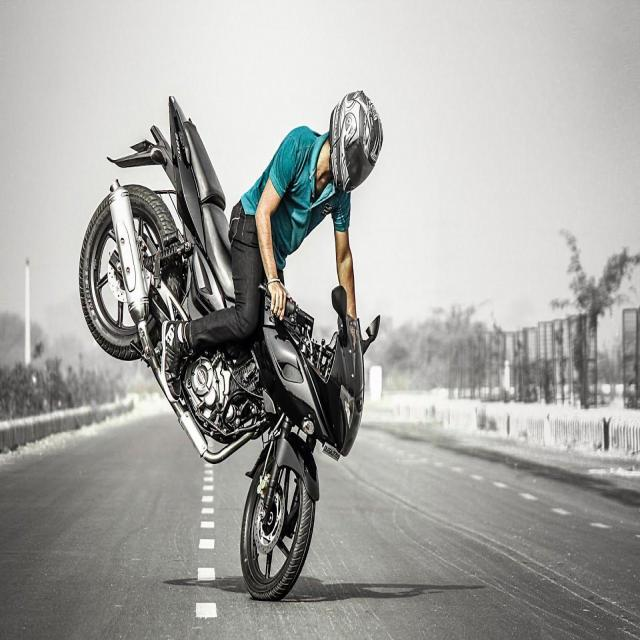Wheeling: (60, 75, 395, 605)
